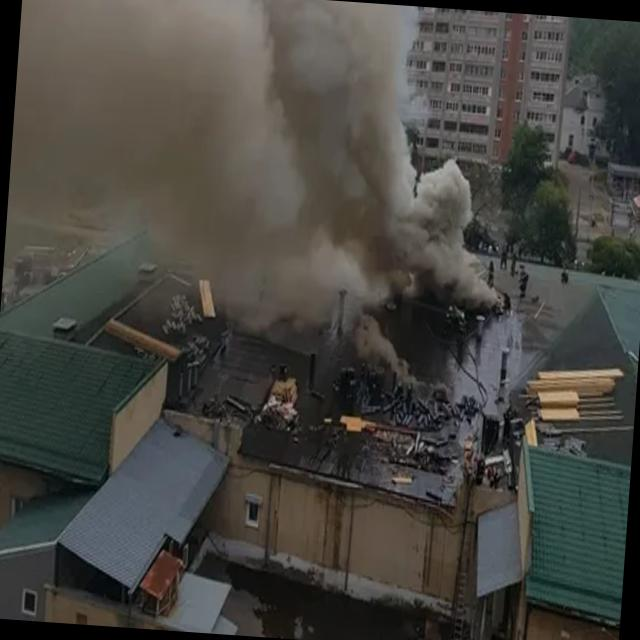Smoke: (1, 0, 520, 337)
